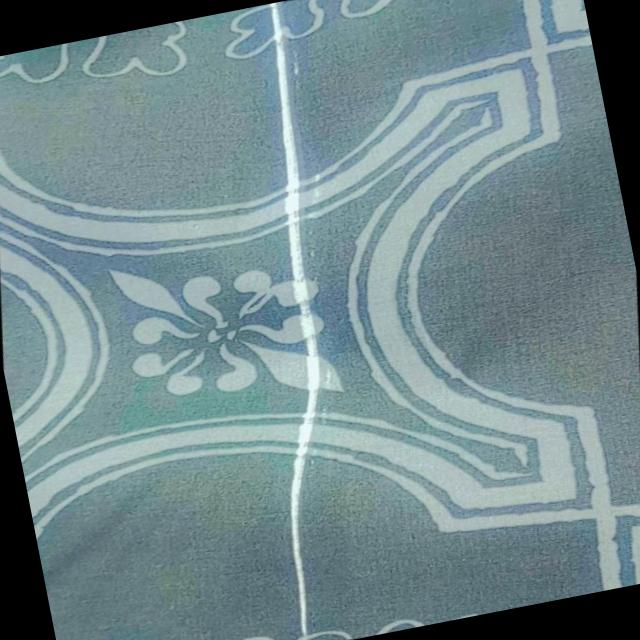selvet: (159, 0, 429, 640)
